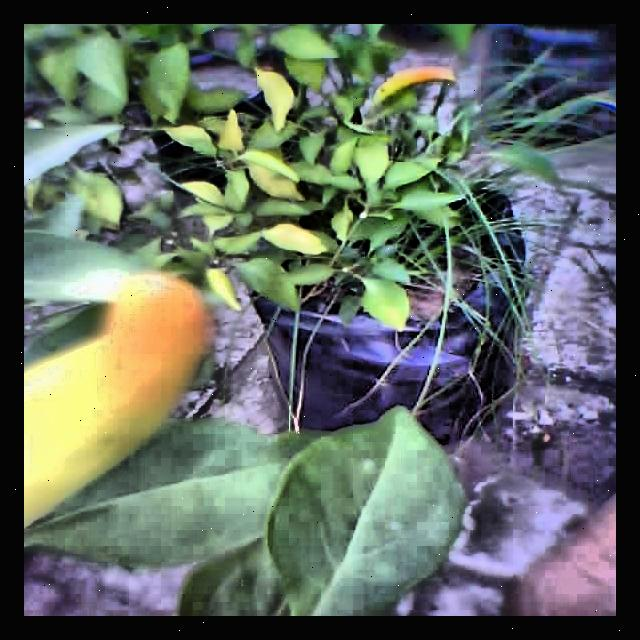Cabai: (24, 254, 228, 535), (360, 56, 476, 116)
